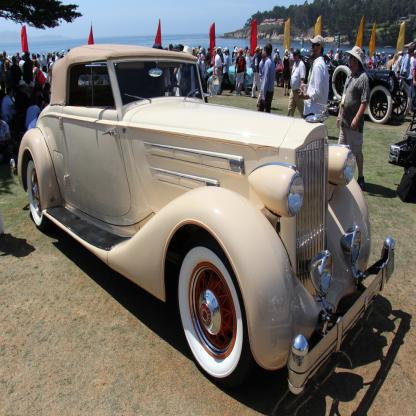Car: (19, 44, 396, 398), (325, 55, 413, 125)
